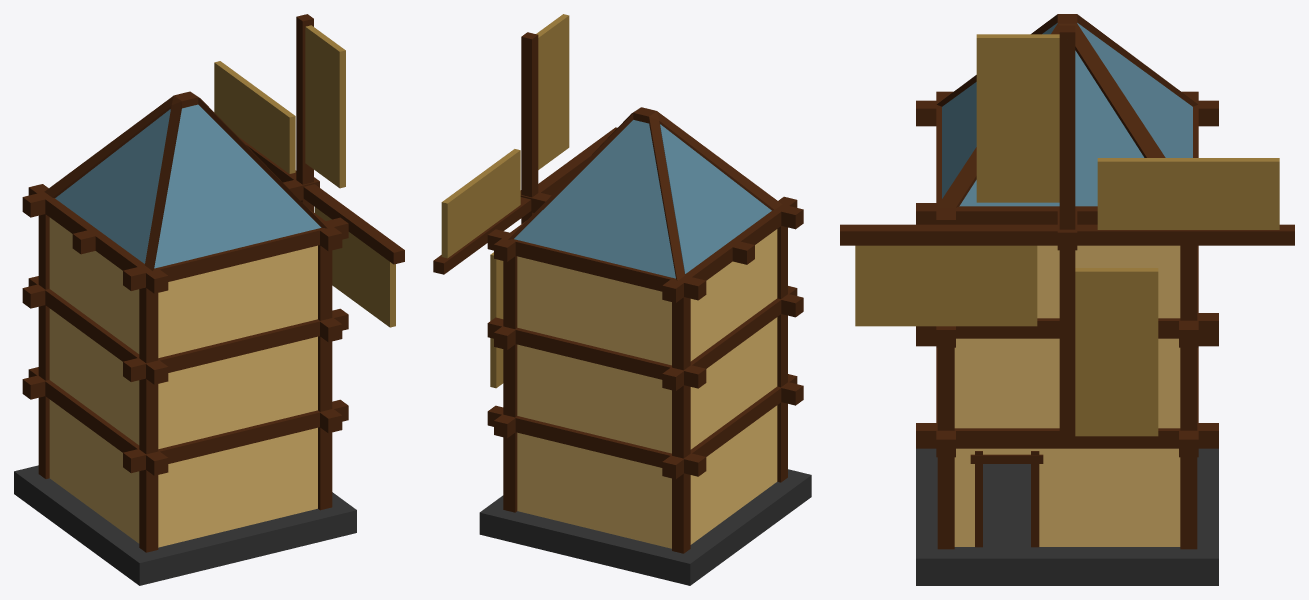
The model's file is MBS_City_Windmill.fbx.
3 views of the same model, side by side, from view 1: azimuth 30°, elevation 25°; view 2: azimuth 150°, elevation 25°; view 3: azimuth 270°, elevation 25° (orthographic). The views are drawn at different scales.
Visible parts, largest first — view 1: Cube.848; view 2: Cube.848; view 3: Cube.848.
Part boxes in pixels (<box>): Cube.848: <box>14,14,404,585</box>; Cube.848: <box>433,14,811,585</box>; Cube.848: <box>840,14,1294,585</box>.
Bounding box in the file's own units: 1100 × 2050 × 1500.
